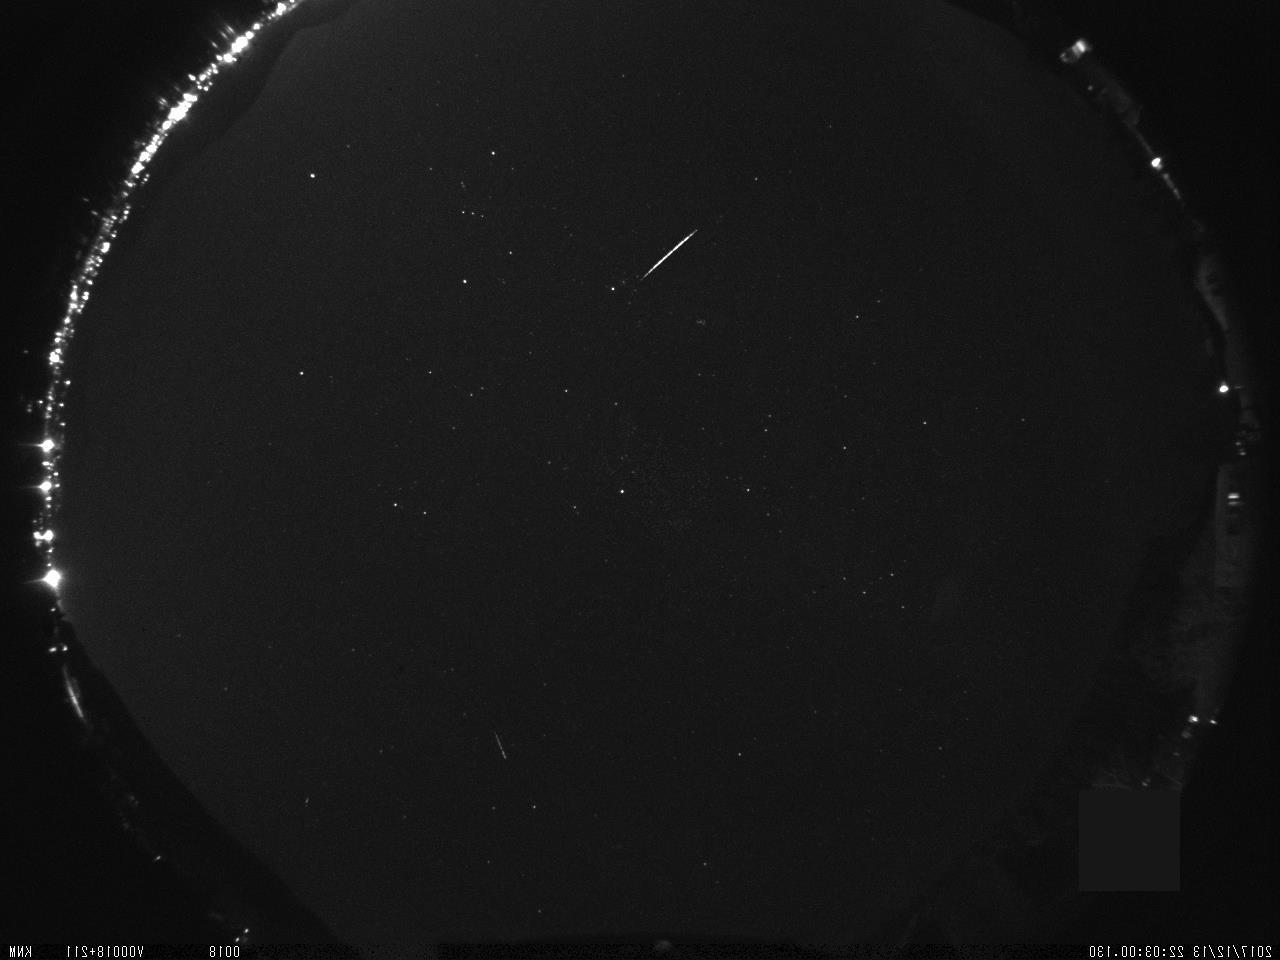meteor: (630, 219, 714, 289)
